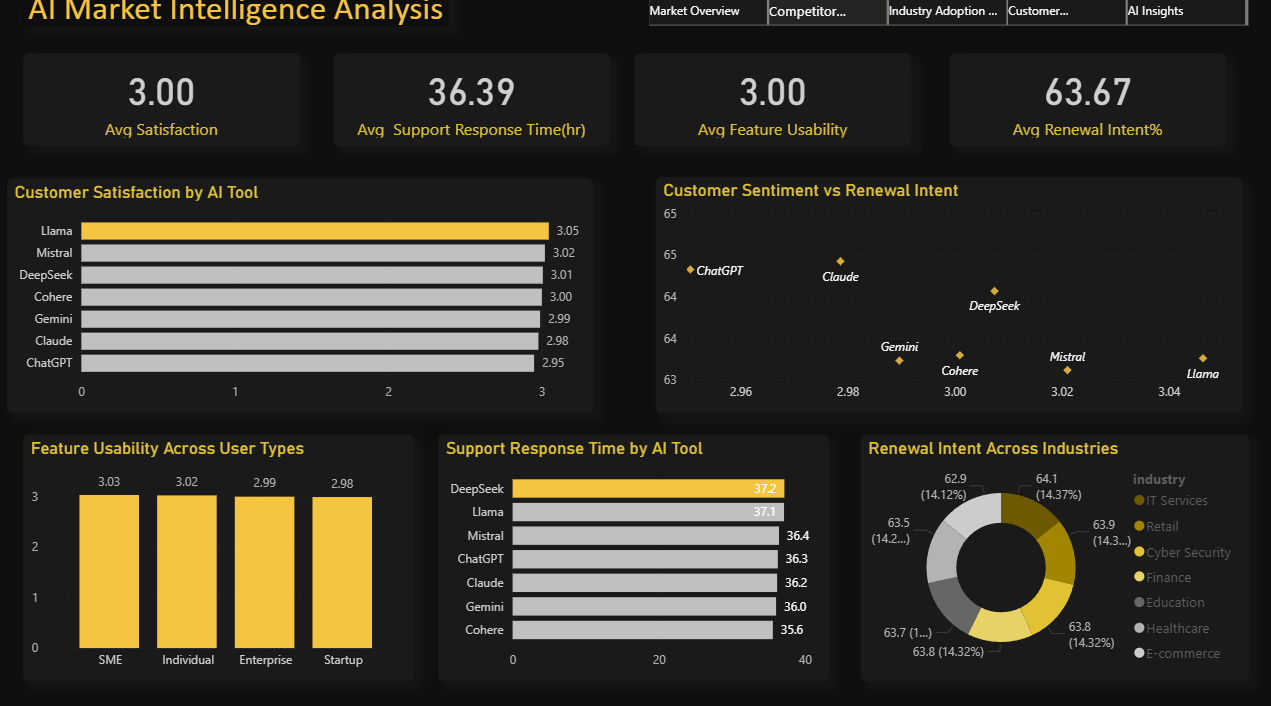

What the dashboard file says about the page in this screenshot:
{"tool":"powerbi","page":{"name":"Competitor Analysis","canvas":[1280,720],"ordinal":1},"visuals":[{"type":"textbox","title":"AI Market Intelligence Analysis","box":[31,0,423.2,38.1],"z":0},{"type":"pageNavigator","box":[654.3,8.7,595.9,29.9],"z":1000},{"type":"card","fields":{"Values":["CustomerInsights.Avg Satisfaction"]},"box":[31.1,65.9,274.9,92.1],"z":2000},{"type":"card","fields":{"Values":["CustomerInsights.Avg Response Time"]},"box":[339.6,65.9,274.9,92.1],"z":3000},{"type":"card","fields":{"Values":["CustomerInsights.Avg Feature Usability"]},"box":[639.4,65.9,274.9,92.1],"z":4000},{"type":"card","fields":{"Values":["CustomerInsights.Avg Renewal Intent"]},"box":[952.9,65.9,274.9,92.1],"z":5000},{"type":"barChart","title":"Customer Satisfaction by AI Tool","fields":{"Category":["CustomerInsights.tool_name"],"Y":["CustomerInsights.Avg Satisfaction"]},"box":[14.9,190.3,583.4,233.9],"z":6000},{"type":"scatterChart","title":"Customer Sentiment vs Renewal Intent","fields":{"X":["CustomerInsights.Avg Satisfaction"],"Y":["CustomerInsights.Avg Renewal Intent"],"Category":["CustomerInsights.tool_name"]},"box":[660.4,189.5,584.1,234.8],"z":7000},{"type":"clusteredColumnChart","title":"Feature Usability Across User Types","fields":{"Category":["CustomerInsights.user_type"],"Y":["CustomerInsights.Avg Feature Usability"]},"box":[31,445.8,388.6,245.6],"z":8000},{"type":"barChart","title":"Support Response Time by AI Tool","fields":{"Category":["CustomerInsights.tool_name"],"Y":["CustomerInsights.Avg Response Time"]},"box":[444.6,445.8,388.6,245.6],"z":9000},{"type":"donutChart","title":"Renewal Intent Across Industries","fields":{"Category":["CustomerInsights.industry"],"Y":["CustomerInsights.Avg Renewal Intent"]},"box":[864.2,445.8,386.2,245.6],"z":10000}]}

Visuals, with their boxes in screenshot pixels (x1, y1, x2, y2), scaled from the page's 1280x720 canvas onto the 1271x706 screenshot:
"AI Market Intelligence Analysis" textbox: 31, 0, 451, 37
pageNavigator: 650, 9, 1241, 38
card - CustomerInsights.Avg Satisfaction: 31, 65, 304, 155
card - CustomerInsights.Avg Response Time: 337, 65, 610, 155
card - CustomerInsights.Avg Feature Usability: 635, 65, 908, 155
card - CustomerInsights.Avg Renewal Intent: 946, 65, 1219, 155
"Customer Satisfaction by AI Tool" barChart: 15, 187, 594, 416
"Customer Sentiment vs Renewal Intent" scatterChart: 656, 186, 1236, 416
"Feature Usability Across User Types" clusteredColumnChart: 31, 437, 417, 678
"Support Response Time by AI Tool" barChart: 441, 437, 827, 678
"Renewal Intent Across Industries" donutChart: 858, 437, 1242, 678
